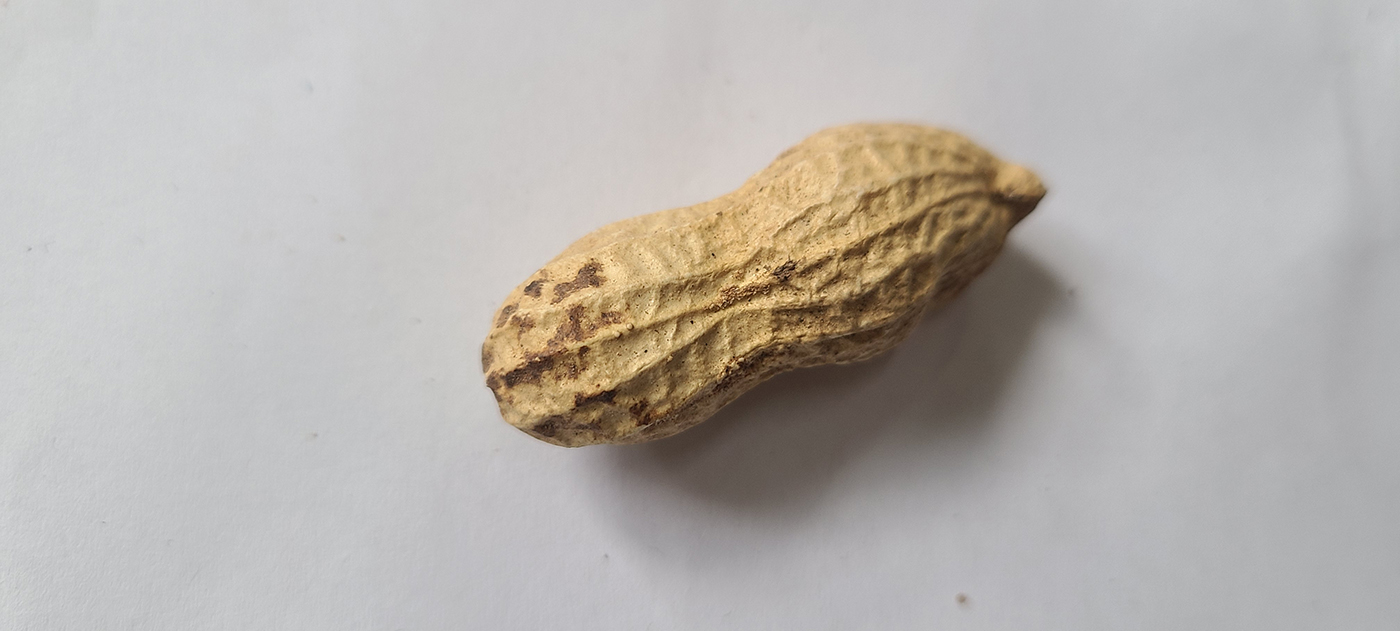h: (479, 113, 1049, 449)
